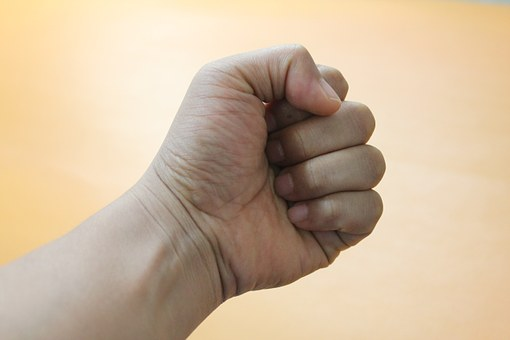fist: (154, 36, 393, 295)
